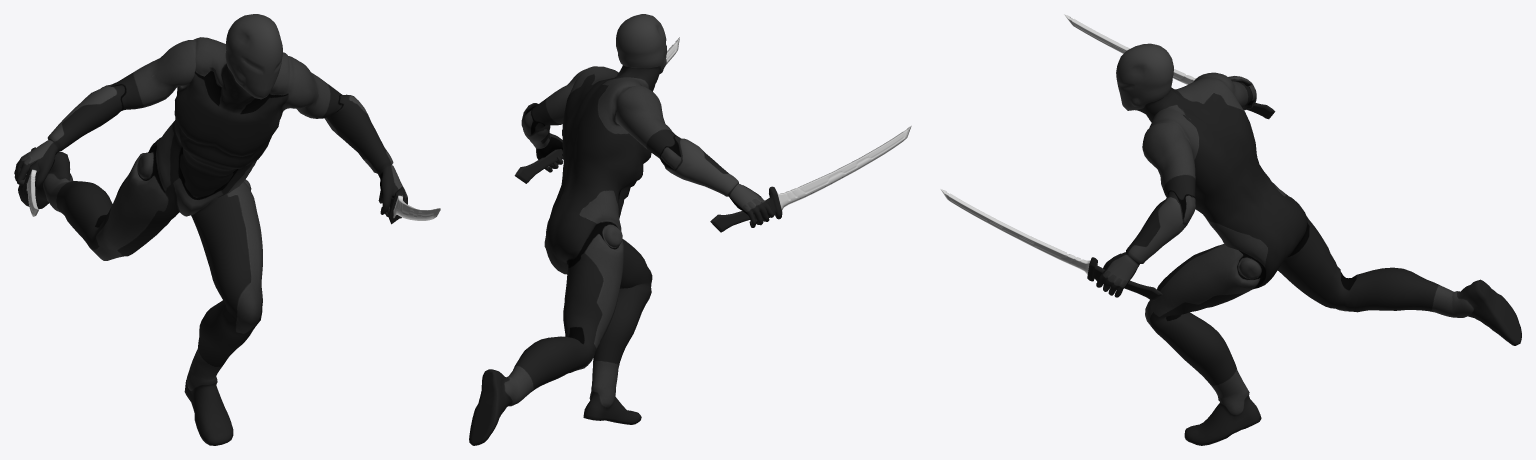
3 renders of one model, left to right at view 1: azimuth 30°, elevation 25°; view 2: azimuth 150°, elevation 25°; view 3: azimuth 270°, elevation 25°, orthographic. The views are drawn at different scales.
Parts seen in each view (by area): view 1: Cyborg_Ninja_Killer, Sword_l, Sword_l001; view 2: Cyborg_Ninja_Killer, Sword_l001, Sword_l; view 3: Cyborg_Ninja_Killer, Sword_l, Sword_l001.
Boxes of the visible parts, box(x1,y1,x2,y2) form: Cyborg_Ninja_Killer: box(14, 14, 407, 445); Sword_l: box(378, 187, 440, 224); Sword_l001: box(22, 147, 39, 216); Cyborg_Ninja_Killer: box(469, 14, 774, 445); Sword_l001: box(710, 125, 911, 232); Sword_l: box(514, 37, 679, 183); Cyborg_Ninja_Killer: box(1096, 43, 1521, 445); Sword_l: box(940, 189, 1162, 300); Sword_l001: box(1064, 14, 1275, 119).
Size of the model in its own units: 150 by 158 by 209.
2 materials, 2 textured.
